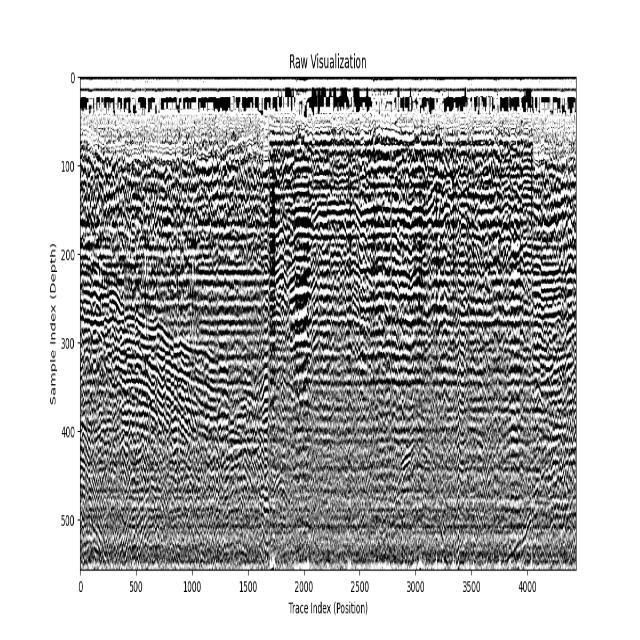anomaly: (86, 261, 264, 486)
